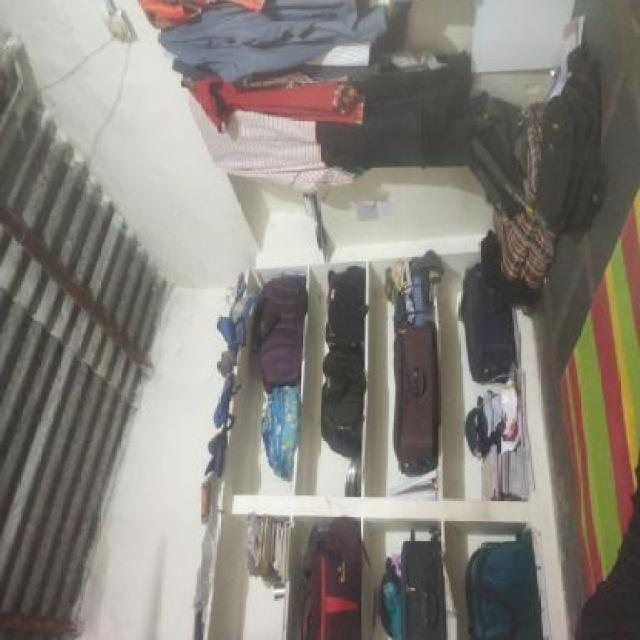backpack: (531, 43, 615, 242), (464, 535, 544, 640), (391, 320, 443, 480), (297, 523, 361, 640), (252, 274, 306, 388), (320, 346, 365, 460), (400, 535, 448, 640), (254, 386, 303, 485), (324, 266, 368, 348)
